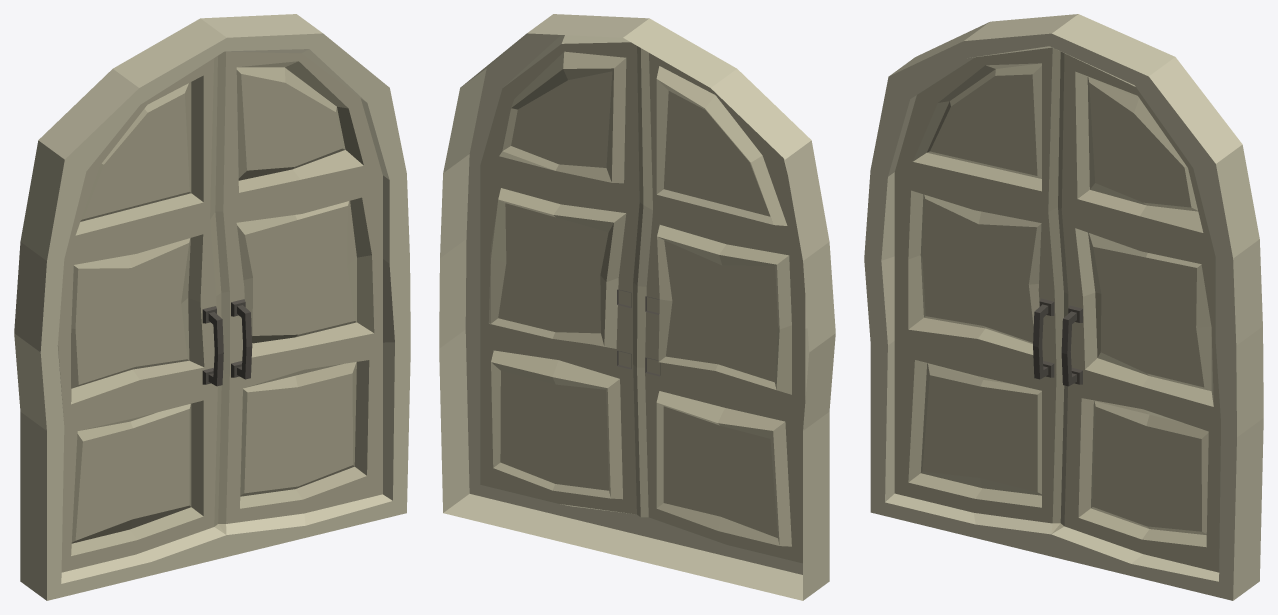
The model's file is Door_4.fbx.
3 renders of one model, left to right at view 1: azimuth 30°, elevation 25°; view 2: azimuth 150°, elevation 25°; view 3: azimuth 330°, elevation 25°, orthographic.
Visible parts, largest first — view 1: Door_4; view 2: Door_4; view 3: Door_4.
Part boxes in pixels (box(x1,y1,x2,y2)): Door_4: box(14, 14, 410, 600); Door_4: box(439, 14, 835, 600); Door_4: box(864, 14, 1263, 600).
Bounding box in the file's own units: 204 × 273 × 30.04.
